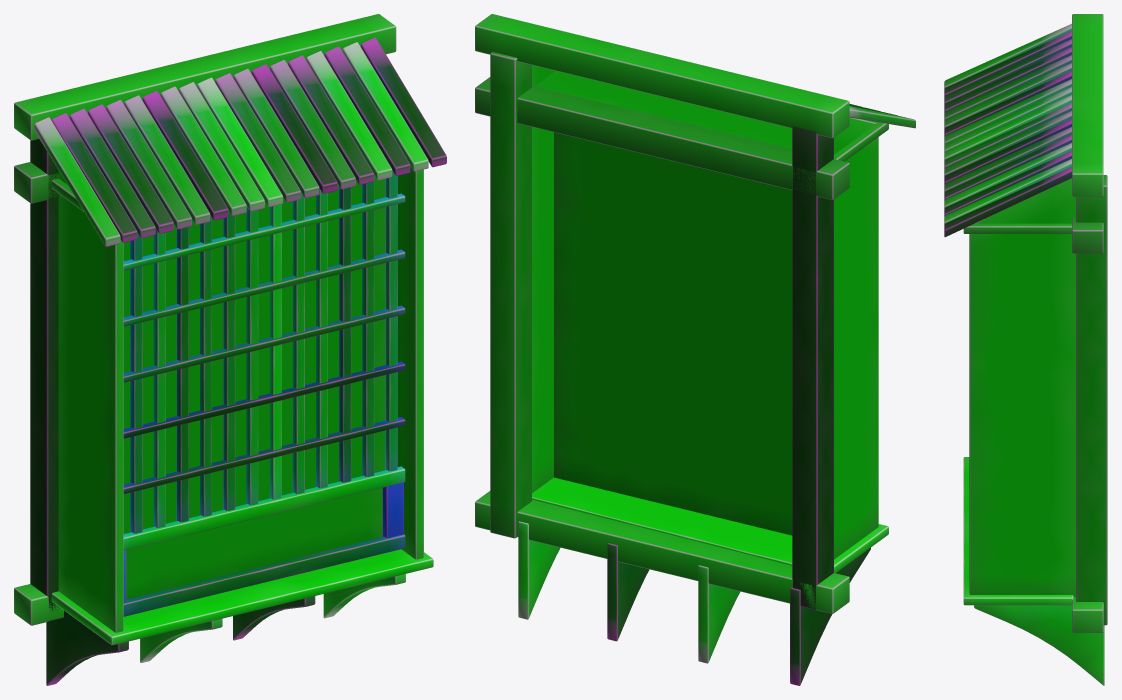
File: window_slope_200_12_left.fbx
3 renders of one model, left to right at view 1: azimuth 30°, elevation 25°; view 2: azimuth 150°, elevation 25°; view 3: azimuth 270°, elevation 25°, orthographic. The views are drawn at different scales.
Parts seen in each view (by area): view 1: window_slope_200_12_left; view 2: window_slope_200_12_left; view 3: window_slope_200_12_left.
Boxes of the visible parts, <box> form: window_slope_200_12_left: <box>14,14,446,685</box>; window_slope_200_12_left: <box>475,14,915,685</box>; window_slope_200_12_left: <box>944,14,1107,685</box>.
Bounding box in the file's own units: 1.32 × 2.05 × 0.5694.
